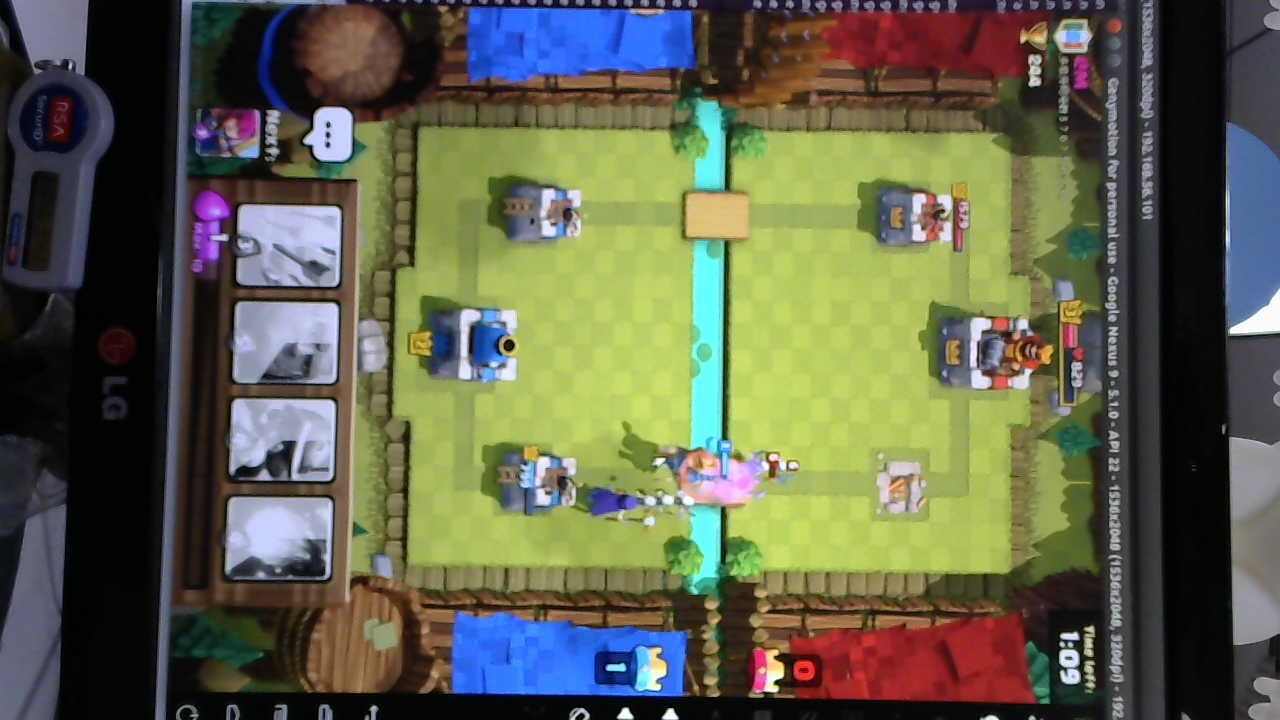arena: (505, 180, 584, 247), (511, 451, 584, 513)
darena: (872, 452, 931, 520)
earena: (874, 185, 955, 252)
eking: (932, 309, 1043, 392)
king: (430, 301, 524, 385)
prince: (664, 442, 721, 488)
skeleton: (739, 445, 808, 487), (627, 487, 702, 519)
witch: (585, 484, 652, 527)
